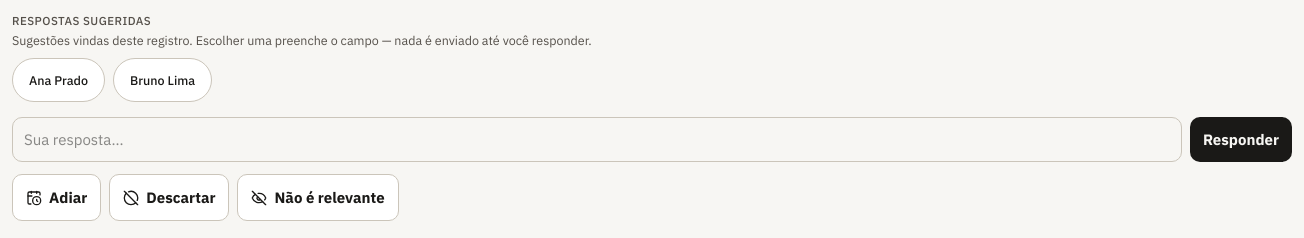
Test: QuestionAnswerForm suggestion chips › populates the editable answer without submitting or resolving
Click the button "Ana Prado" at (58, 80), box left=12, top=58, right=105, bottom=102
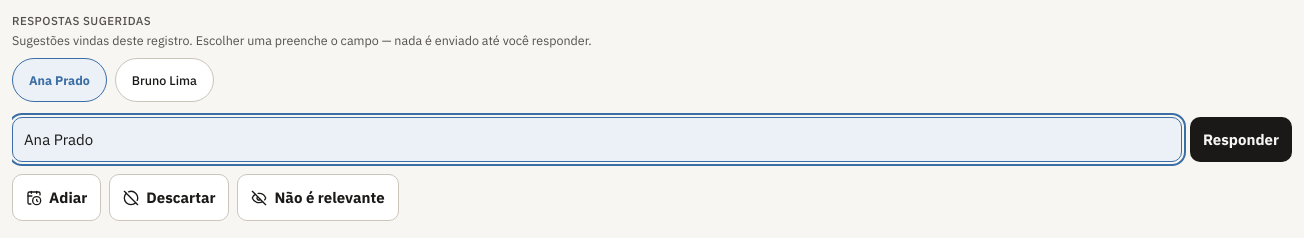
Expected: the field named "resposta" is enabled, left=12, top=117, right=1182, bottom=162
Now the field named "resposta" holds "Ana Prado", box left=12, top=117, right=1182, bottom=162
